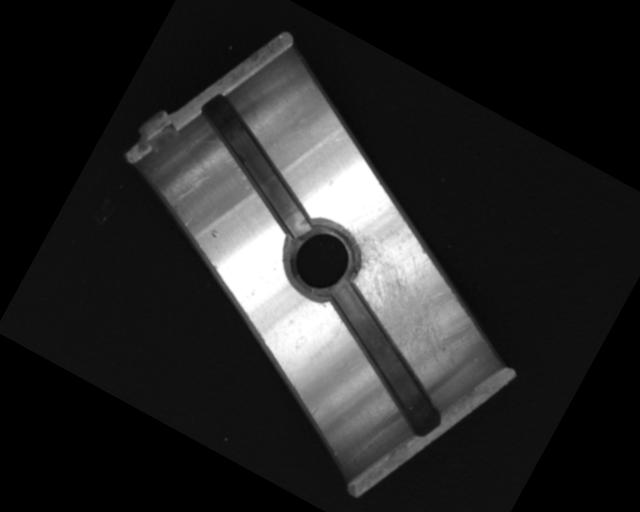bruise: (208, 227, 221, 240)
gap: (295, 281, 473, 439), (171, 91, 345, 241)
hole: (274, 209, 370, 309)
nick: (170, 164, 210, 213)
scratch: (307, 199, 498, 383)
